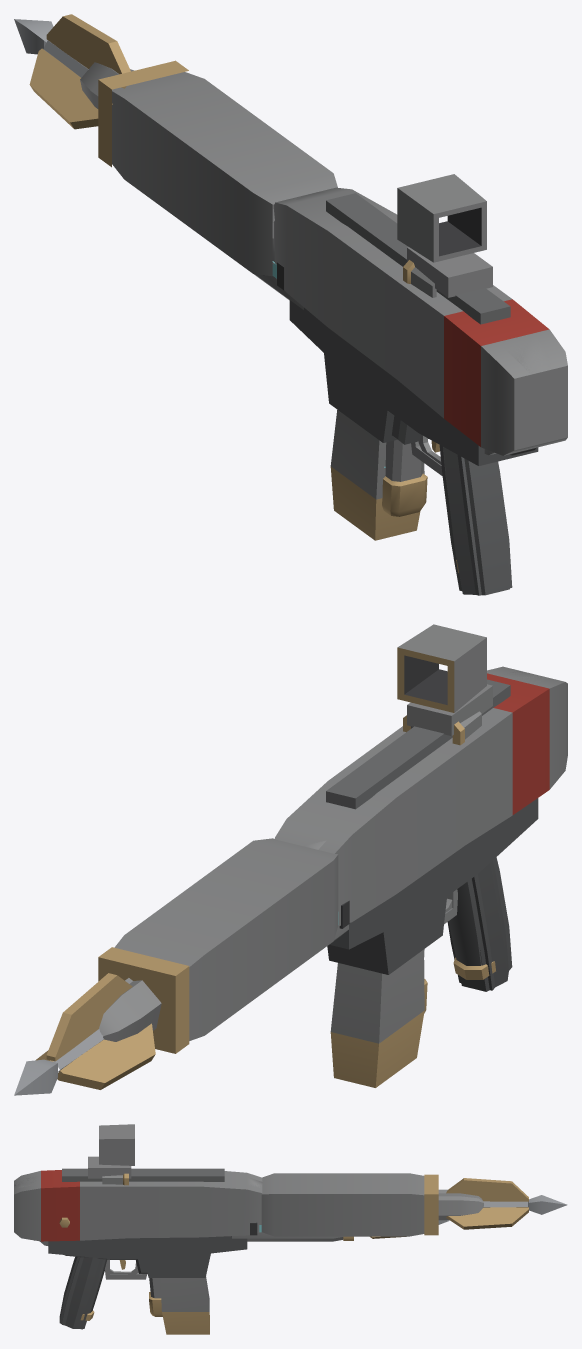
Rendered from pilum_br.glb.
3 renders of one model, top to bottom at view 1: azimuth 30°, elevation 25°; view 2: azimuth 150°, elevation 25°; view 3: azimuth 270°, elevation 25°, orthographic. The views are drawn at different scales.
Parts seen in each view (by area): view 1: ThirdFar, ThirdNear, Cell, Mesh; view 2: ThirdFar, ThirdNear, Mesh; view 3: ThirdFar, ThirdNear, Mesh, Cell.
Boxes of the visible parts, bbox=[...] form: ThirdFar: bbox=[14, 19, 567, 595]; ThirdNear: bbox=[29, 14, 567, 595]; Cell: bbox=[382, 439, 427, 516]; Mesh: bbox=[254, 222, 536, 572]; ThirdFar: bbox=[14, 666, 567, 1095]; ThirdNear: bbox=[36, 624, 567, 1089]; Mesh: bbox=[334, 711, 495, 979]; ThirdFar: bbox=[14, 1168, 567, 1334]; ThirdNear: bbox=[14, 1124, 528, 1328]; Mesh: bbox=[34, 1173, 449, 1320]; Cell: bbox=[149, 1278, 162, 1316].
Size of the model in its own units: 0.0824 by 0.3262 by 0.8275.
